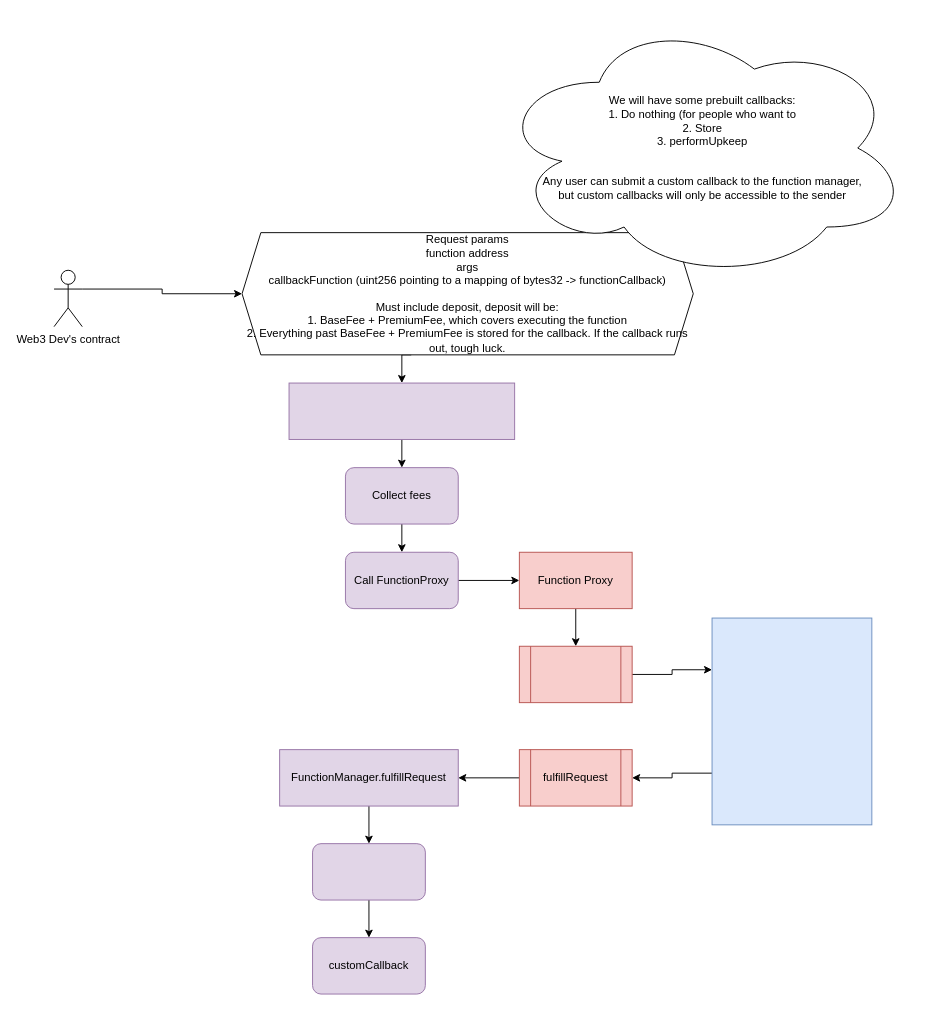
Some shapes in this 926 by 1011 pixel diagram are drawn without their labels. The centre of each missing label's shape, as x and y in pixels:
"baseCallback (Records metrics, calls the custom callback)" goes at point (368, 871).
"DON" goes at point (791, 721).
"FunctionManager.sendRequest" goes at point (401, 410).
"sendRequest" goes at point (575, 674).
